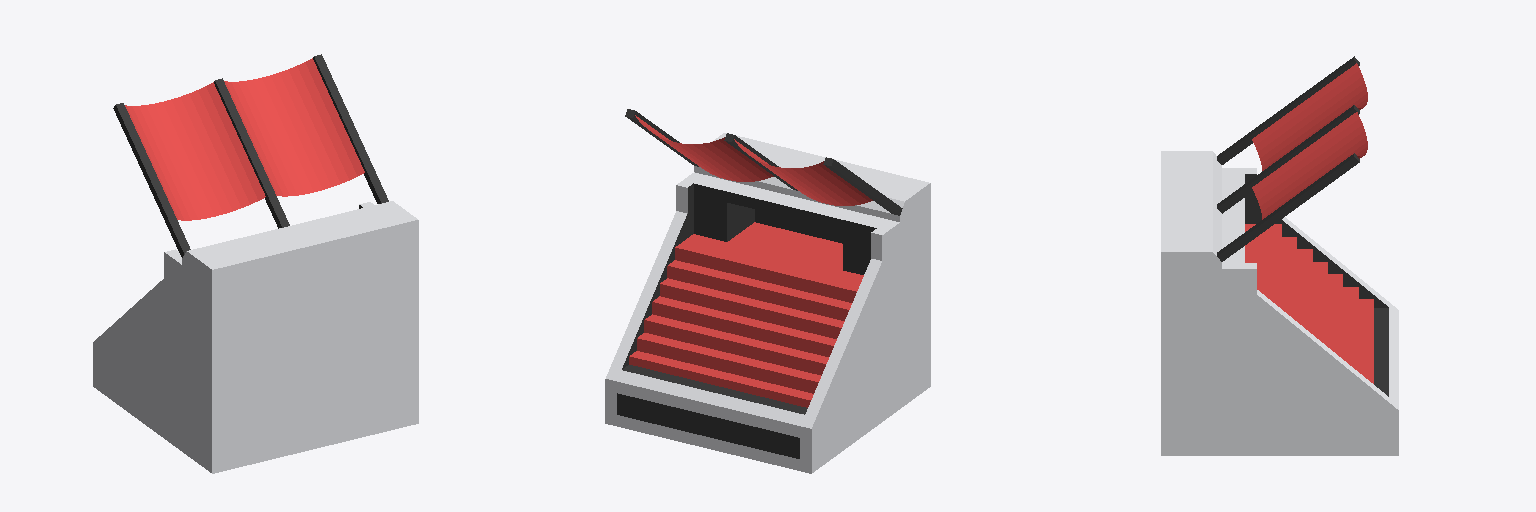
Rendered from grandStandAwning.obj.
3 renders of one model, left to right at view 1: azimuth 30°, elevation 25°; view 2: azimuth 150°, elevation 25°; view 3: azimuth 270°, elevation 25°, orthographic.
Parts seen in each view (by area): view 1: grandStandAwning; view 2: grandStandAwning; view 3: grandStandAwning.
Boxes of the visible parts, box(x1,y1,x2,y2) form: grandStandAwning: box(93, 54, 418, 473); grandStandAwning: box(605, 109, 930, 473); grandStandAwning: box(1161, 56, 1398, 455).
Size of the model in its own units: 1 by 1.39 by 1.